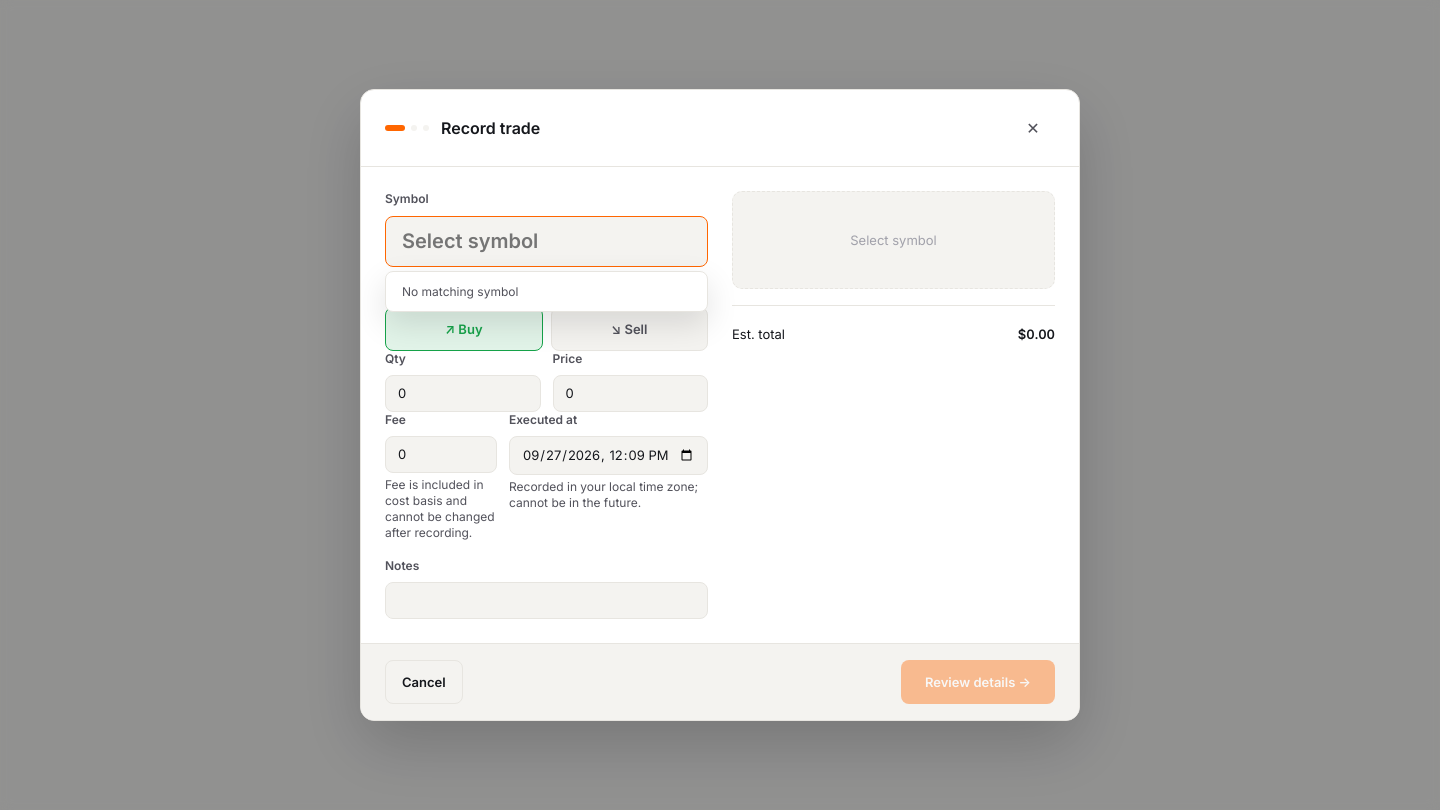
OrderTicket typeahead — 七態(04-10 / D-01 / UI-SPEC §Interaction Contract 2) › Test 5(loaded + truncated):列出 10 筆並提示結果被截斷
In the dropdown labelled "Symbol": (546, 241) [385,216,708,267], type "S"
Wait 250 ms
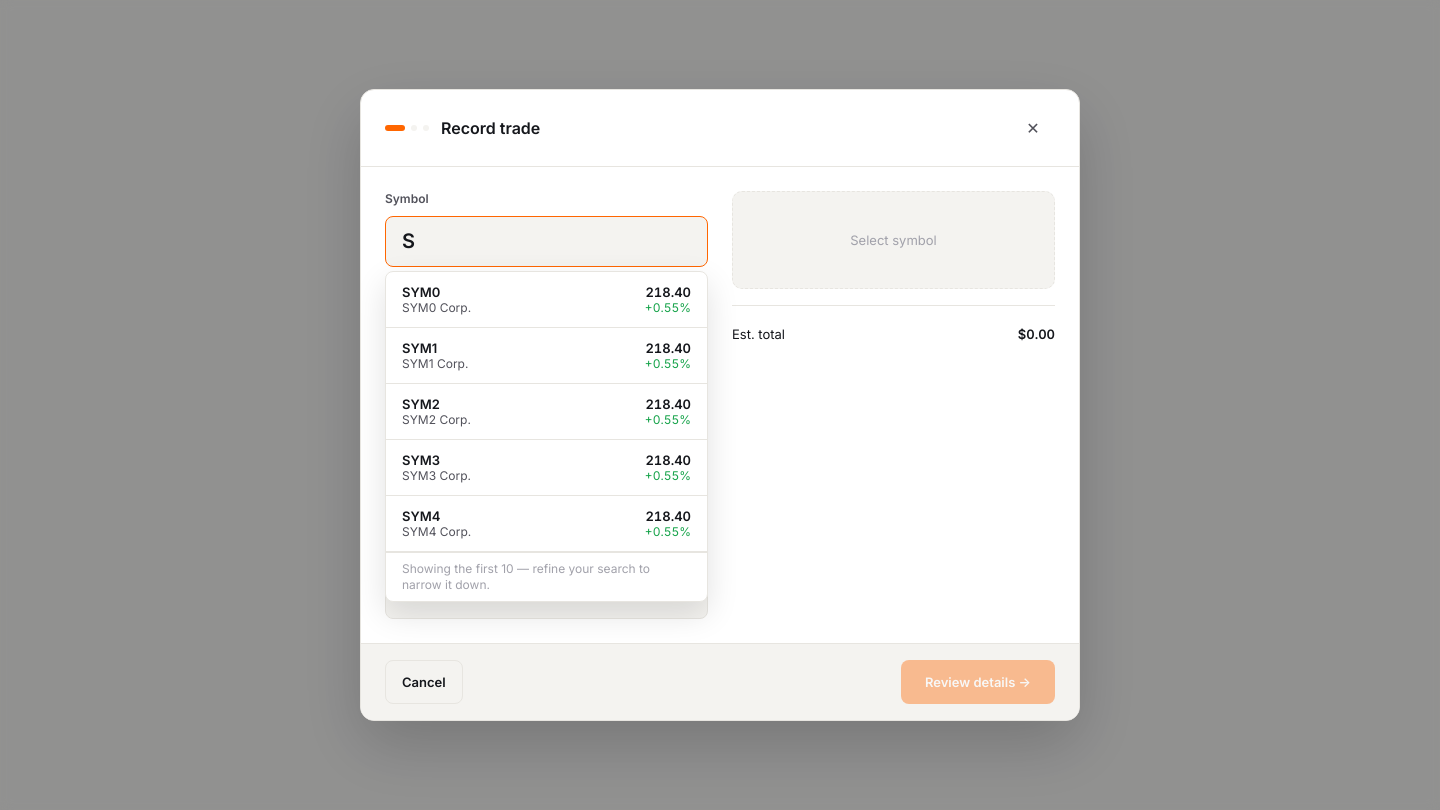
Check: the text "Showing the first 10 — refine your search to narrow it down." is shown, box [386,552,707,601]
